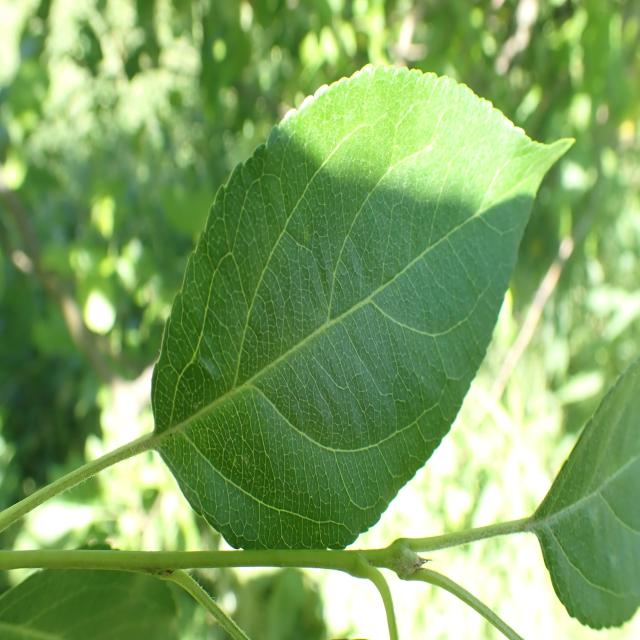healthy: (152, 63, 574, 551), (537, 353, 640, 630)
